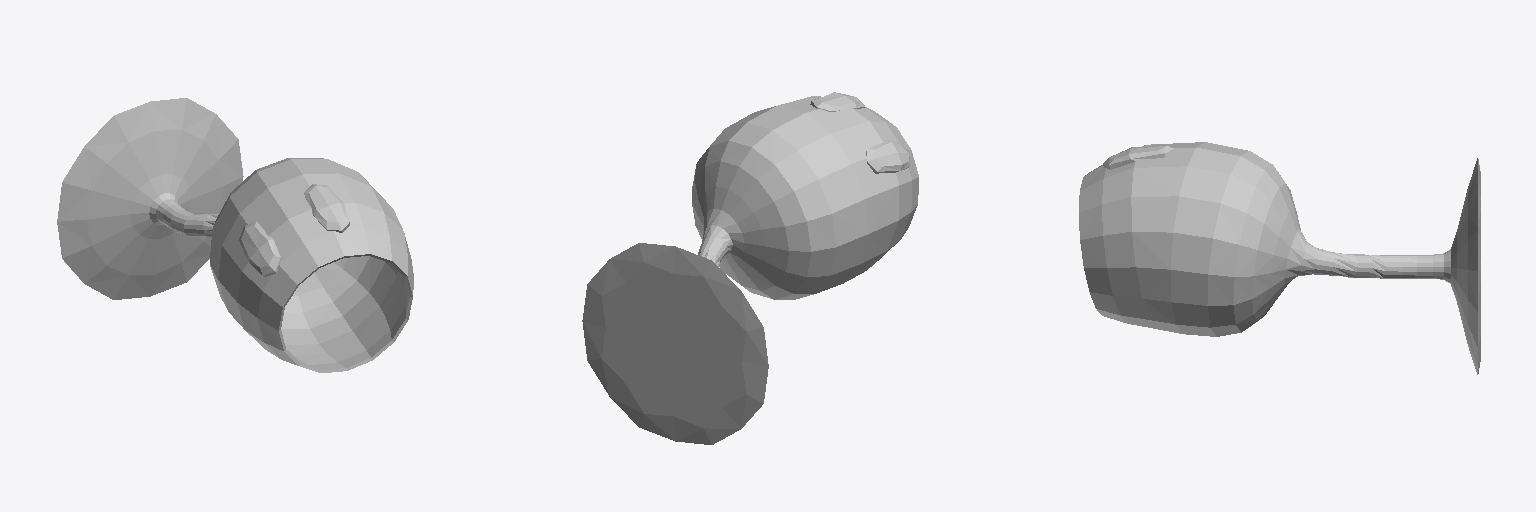
Rendered from animation_000013.obj.
3 renders of one model, left to right at view 1: azimuth 30°, elevation 25°; view 2: azimuth 150°, elevation 25°; view 3: azimuth 270°, elevation 25°, orthographic.
Bounding box in the file's own units: 2.21 × 2.36 × 3.86.